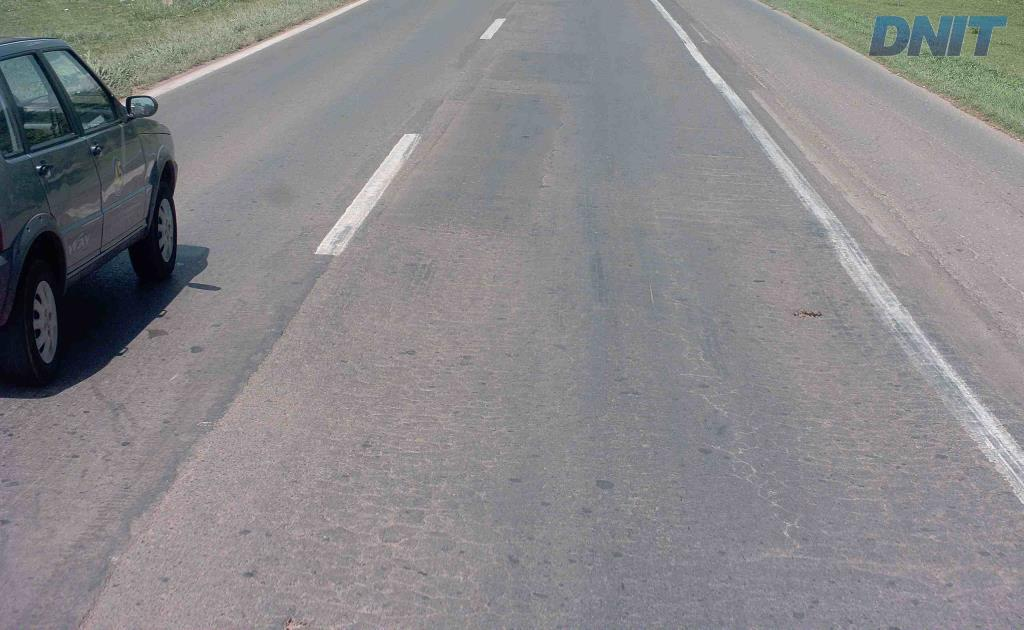pothole: (784, 303, 829, 327)
